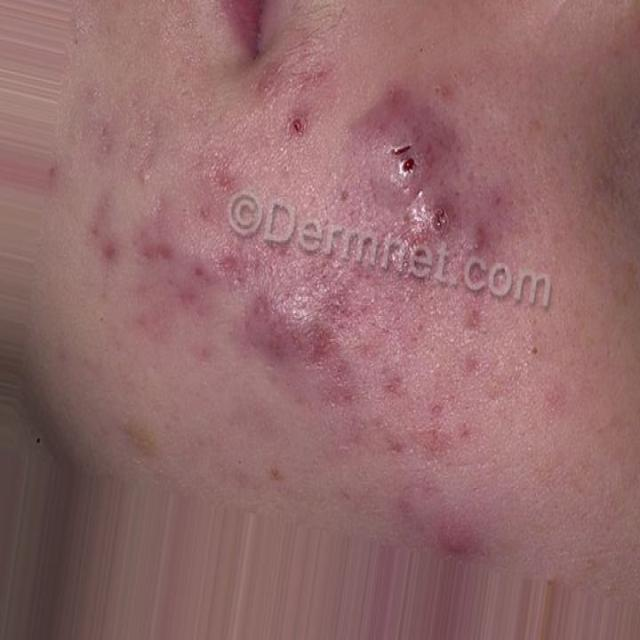acne: (358, 95, 468, 249), (236, 284, 344, 400), (102, 220, 220, 320), (270, 96, 330, 168)
